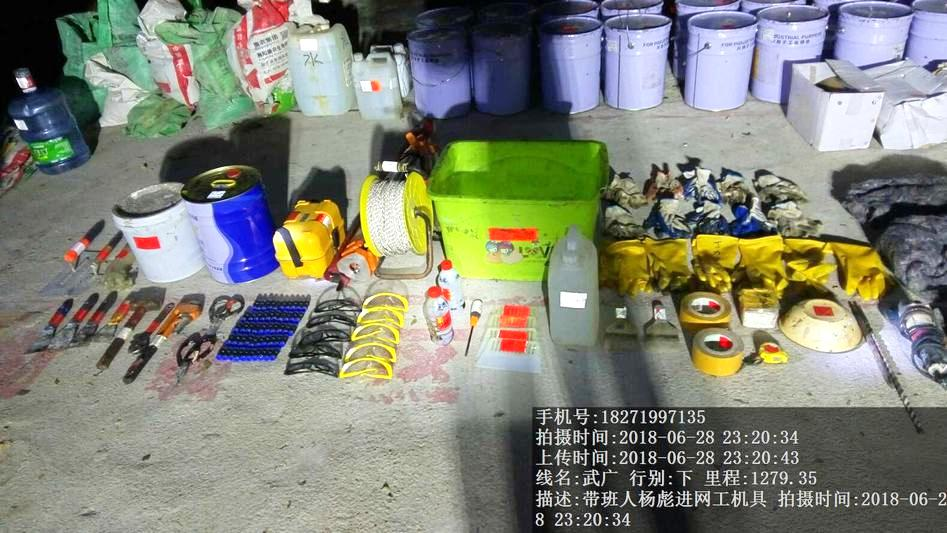DX: (356, 151, 435, 284)
T: (429, 132, 603, 287)
